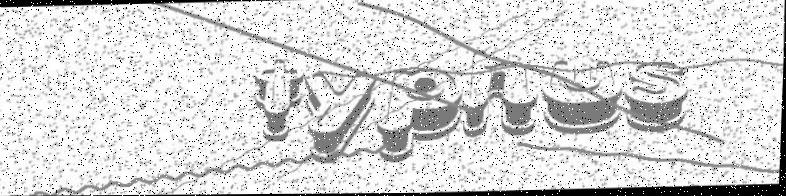h: (460, 48, 543, 139)
p: (377, 66, 465, 164)
s: (624, 61, 692, 131)
t: (251, 57, 304, 143)
u: (538, 58, 627, 136)
y: (300, 69, 380, 167)
